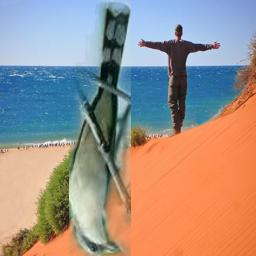Cuckoo: (69, 0, 131, 256)
